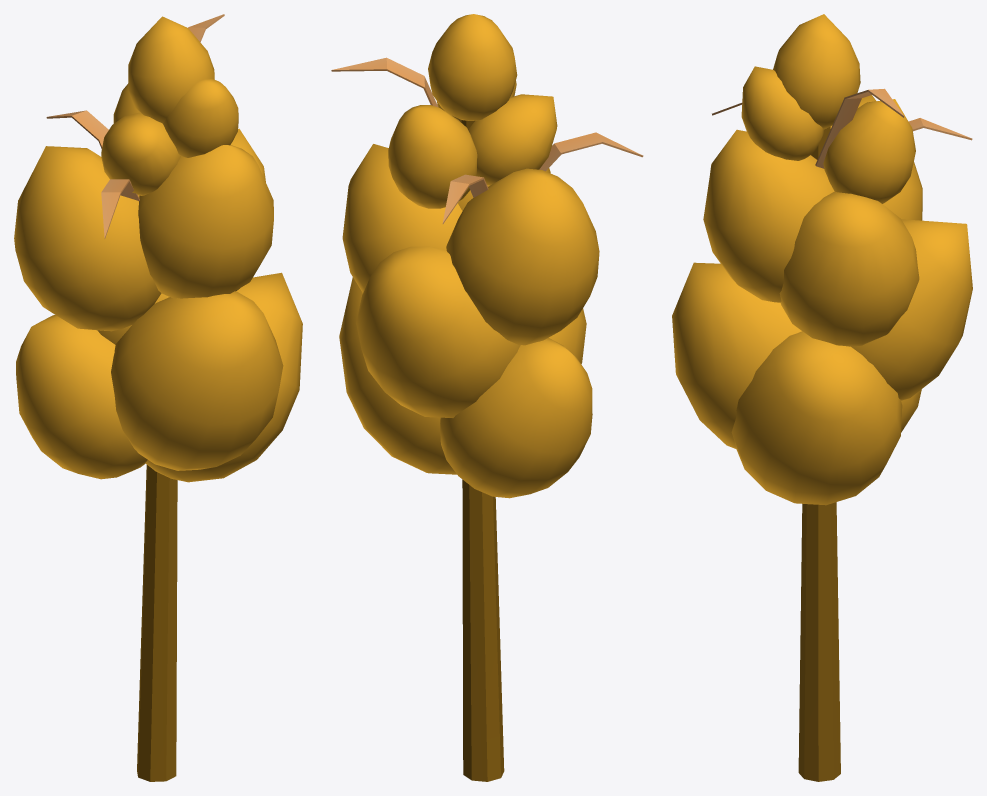
The model's file is grain.fbx.
The picture shows the model from 3 angles, left to right: view 1: azimuth 30°, elevation 25°; view 2: azimuth 150°, elevation 25°; view 3: azimuth 270°, elevation 25°; orthographic projection.
Parts seen in each view (by area): view 1: grain; view 2: grain; view 3: grain.
Boxes of the visible parts, x1,y1,x2,y2 form: grain: (14, 14, 302, 781); grain: (331, 14, 643, 781); grain: (672, 14, 972, 781).
Bounding box in the file's own units: 82.58 × 232 × 82.9.
